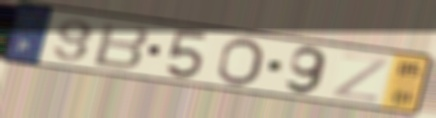5: (161, 27, 213, 81)
9: (283, 45, 331, 96), (51, 18, 96, 62)
B: (90, 19, 153, 72)
O: (213, 36, 267, 88)
Z: (329, 51, 393, 104)
